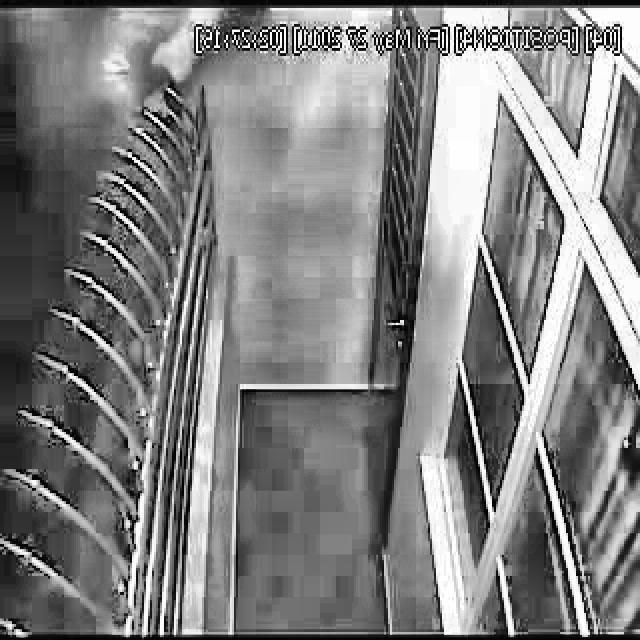burglary: (74, 7, 266, 148)
